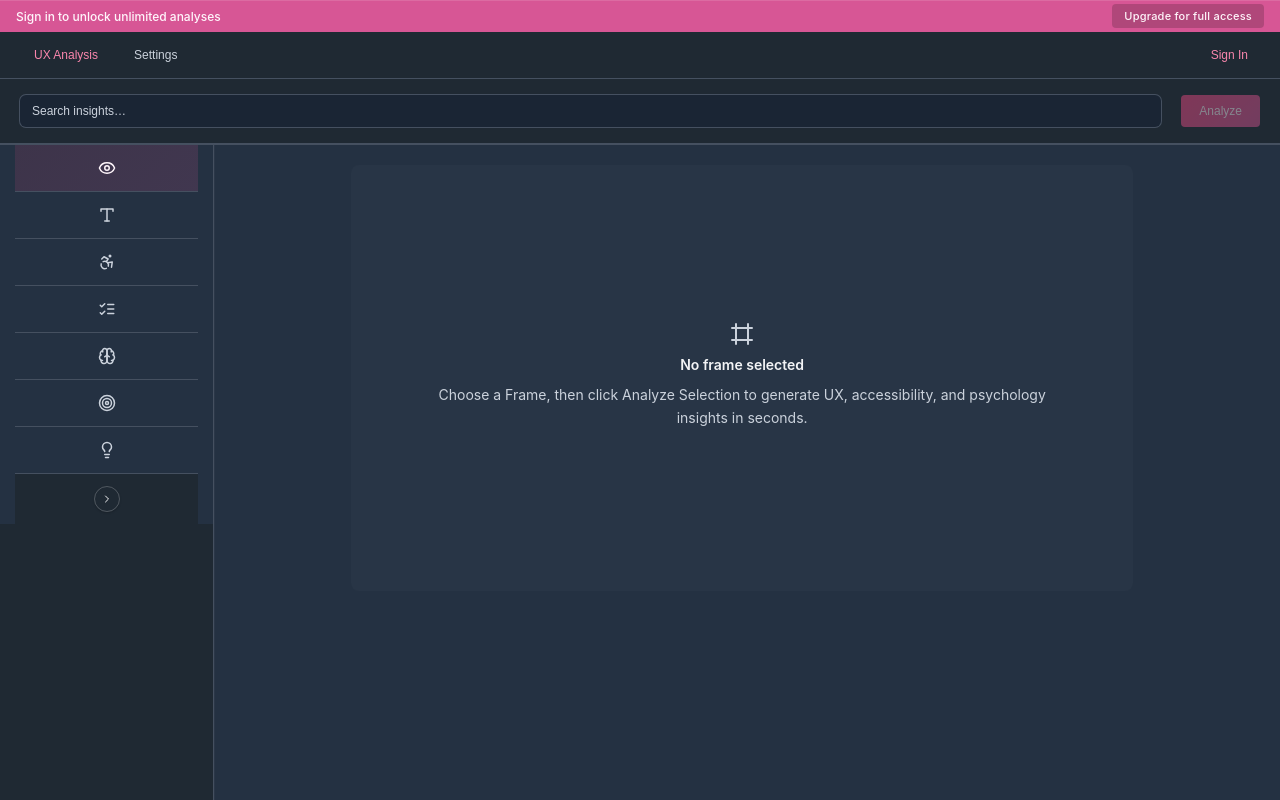
App debug copy analysis control › writes the analysis payload to the clipboard and announces success
The image size is (1280, 800).
Click the button named "Expand sidebar" at [107, 499], box [94,486,120,512]
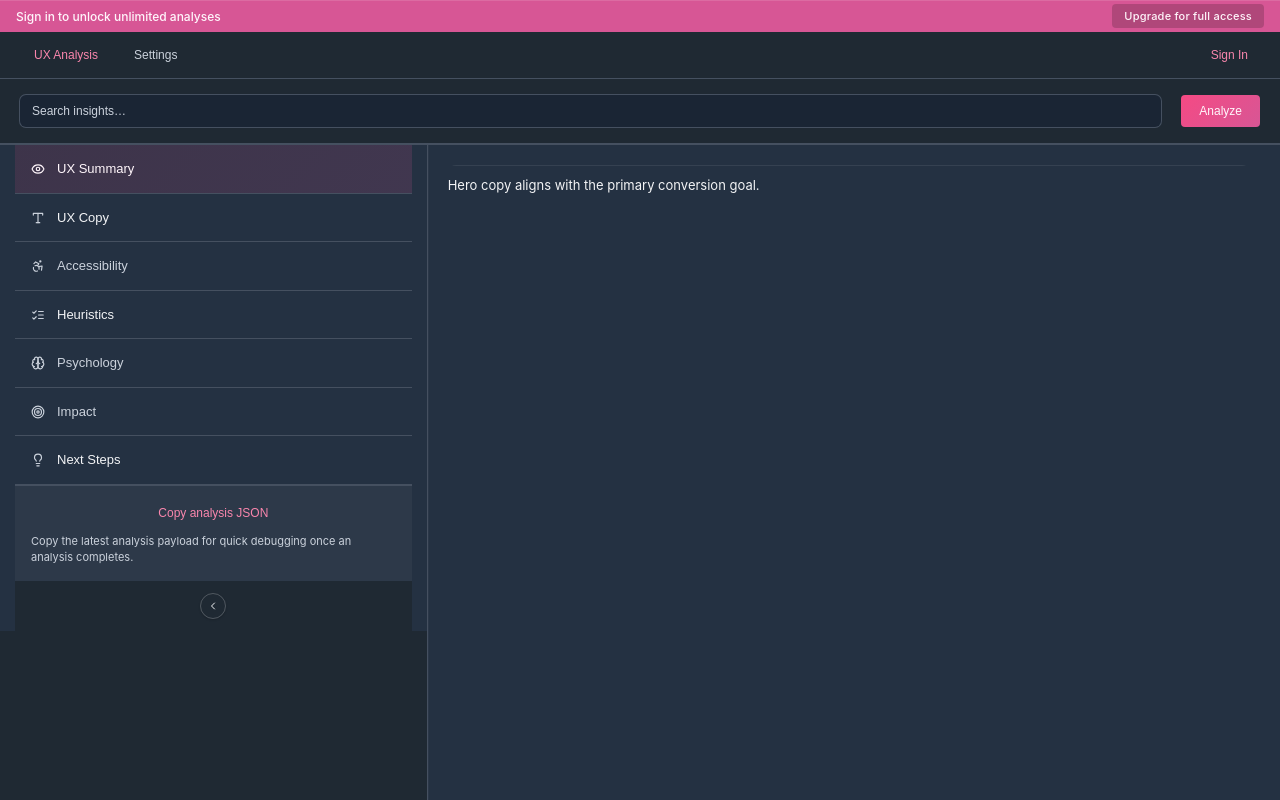
Click the button "Copy analysis JSON" at [213, 513], box [31,498,396,528]
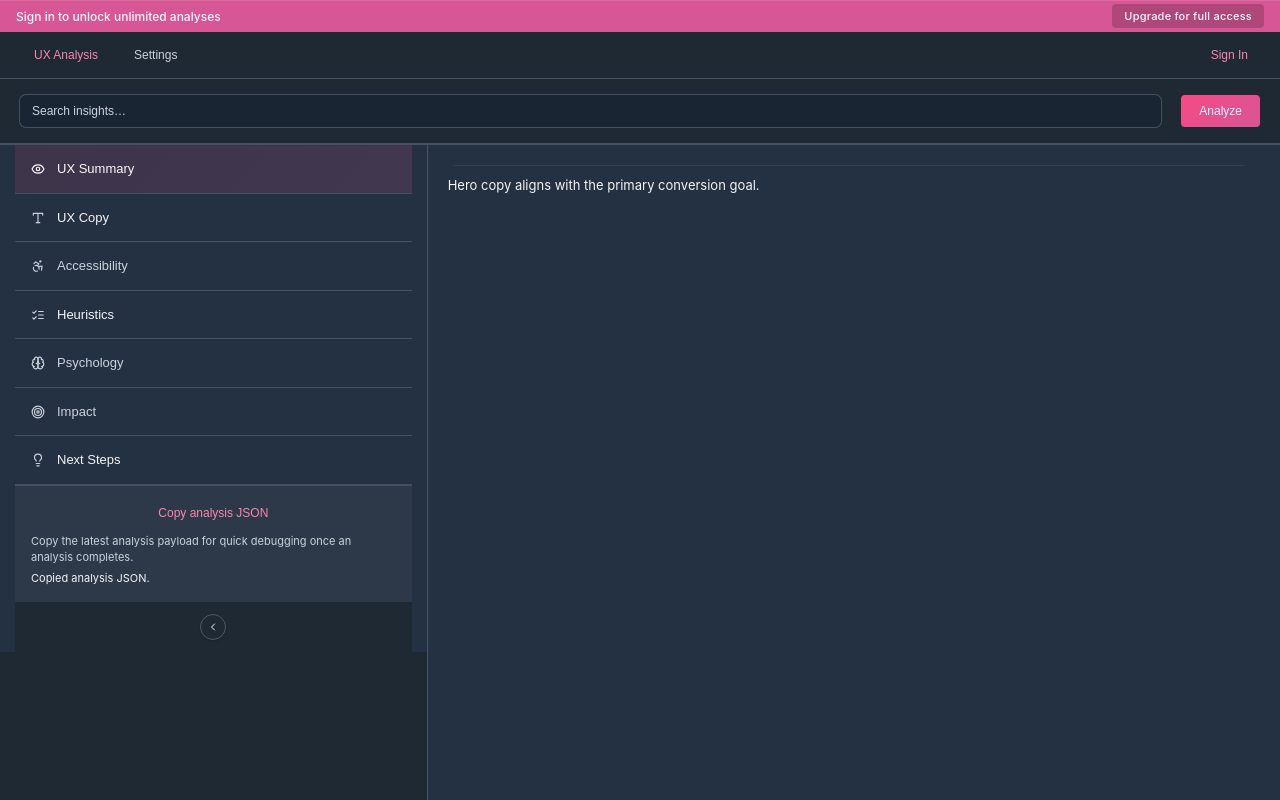
Result: the text "Copied analysis JSON." is shown at [31,571,150,585]
